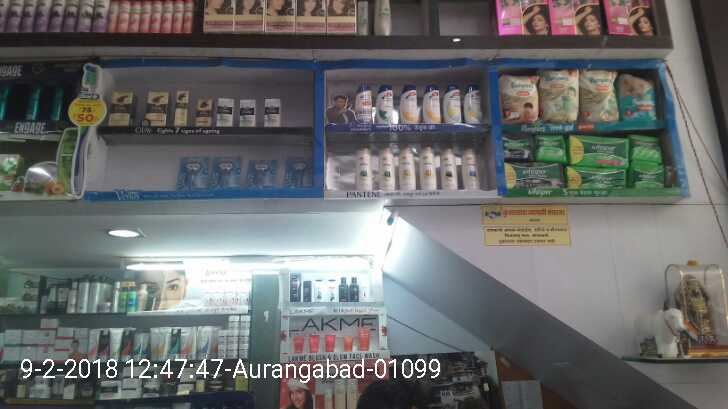venus: (209, 157, 242, 187), (283, 158, 312, 187), (180, 160, 209, 187), (247, 161, 275, 186)
